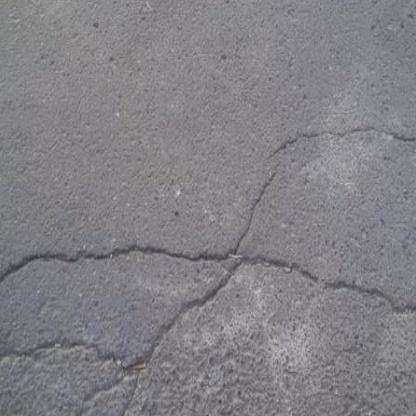Cracks: (0, 169, 416, 416), (263, 122, 416, 162)
